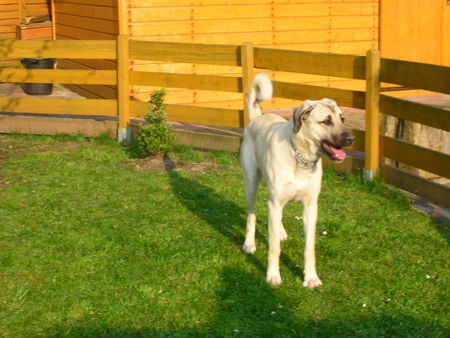kangal: (241, 74, 355, 289)
